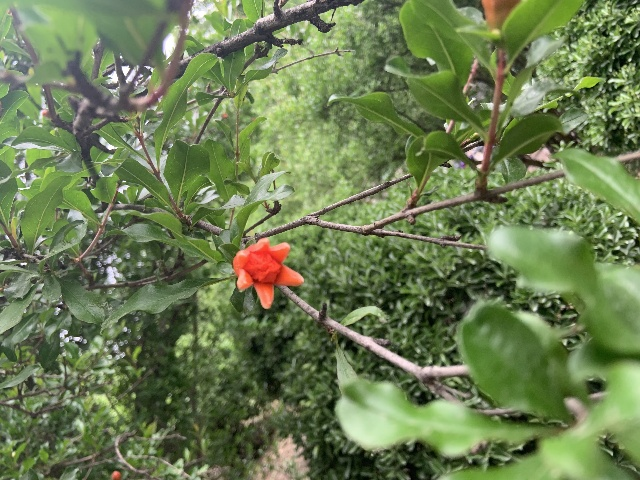flower: (232, 236, 304, 309)
